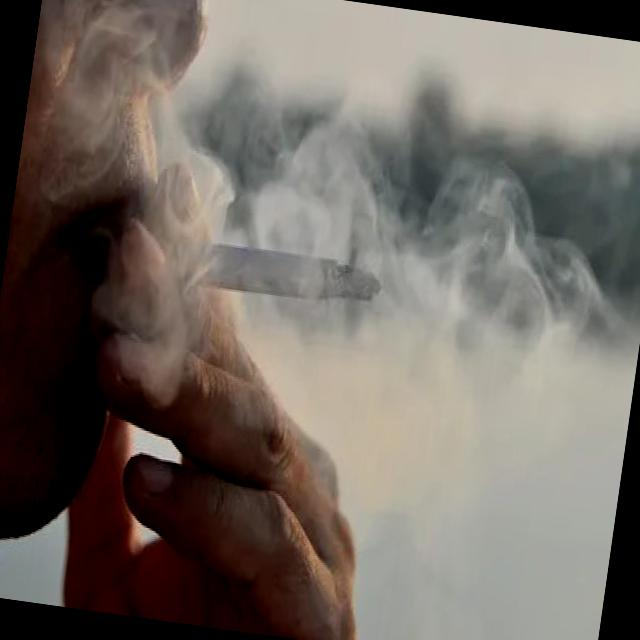smoke: (179, 228, 405, 314)
